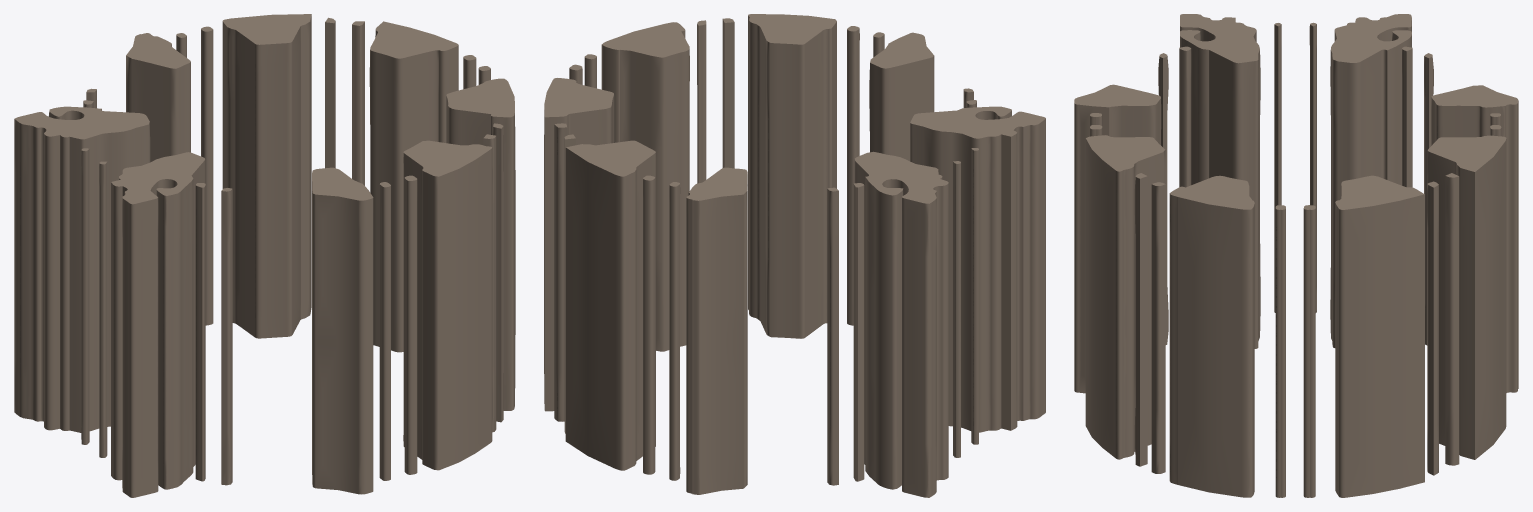
3 views of the same model, side by side, from view 1: azimuth 30°, elevation 25°; view 2: azimuth 150°, elevation 25°; view 3: azimuth 270°, elevation 25° (orthographic). The views are drawn at different scales.
Parts seen in each view (by area): view 1: Object_24, Object_23, Object_19, Object_20, Object_18, Object_22, Object_21, Object_17, Object_15, Object_8, Object_3, Object_7 (+7 smaller); view 2: Object_23, Object_24, Object_20, Object_19, Object_17, Object_21, Object_22, Object_18, Object_11, Object_6, Object_5, Object_13 (+7 smaller); view 3: Object_22, Object_21, Object_20, Object_19, Object_24, Object_23, Object_17, Object_18, Object_12, Object_9, Object_14, Object_16 (+8 smaller).
Boxes of the visible parts, bbox=[...] form: Object_24: bbox=[14, 106, 150, 432]; Object_23: bbox=[111, 152, 205, 497]; Object_19: bbox=[222, 14, 311, 338]; Object_20: bbox=[403, 140, 492, 470]; Object_18: bbox=[312, 167, 373, 494]; Object_22: bbox=[369, 21, 458, 352]; Object_21: bbox=[446, 78, 515, 410]; Object_17: bbox=[126, 33, 190, 162]; Object_15: bbox=[404, 175, 417, 474]; Object_8: bbox=[379, 182, 390, 480]; Object_3: bbox=[221, 188, 232, 485]; Object_7: bbox=[195, 183, 205, 481]; Object_23: bbox=[910, 106, 1045, 432]; Object_24: bbox=[854, 151, 948, 497]; Object_20: bbox=[748, 14, 836, 338]; Object_19: bbox=[565, 140, 655, 470]; Object_17: bbox=[686, 167, 747, 494]; Object_21: bbox=[601, 22, 689, 351]; Object_22: bbox=[544, 78, 614, 411]; Object_18: bbox=[869, 32, 934, 161]; Object_11: bbox=[643, 175, 655, 474]; Object_6: bbox=[853, 183, 864, 481]; Object_5: bbox=[827, 187, 838, 485]; Object_13: bbox=[554, 123, 567, 421]; Object_22: bbox=[1335, 175, 1424, 497]; Object_21: bbox=[1169, 175, 1254, 497]; Object_20: bbox=[1085, 135, 1165, 459]; Object_19: bbox=[1427, 135, 1506, 459]; Object_24: bbox=[1330, 14, 1411, 347]; Object_23: bbox=[1180, 14, 1260, 348]; Object_17: bbox=[1431, 85, 1518, 392]; Object_18: bbox=[1074, 84, 1161, 393]; Object_12: bbox=[1445, 173, 1459, 465]; Object_9: bbox=[1151, 182, 1165, 473]; Object_14: bbox=[1134, 173, 1147, 466]; Object_16: bbox=[1303, 205, 1315, 497].
Size of the model in its own units: 7.95 by 5.44 by 7.62.
